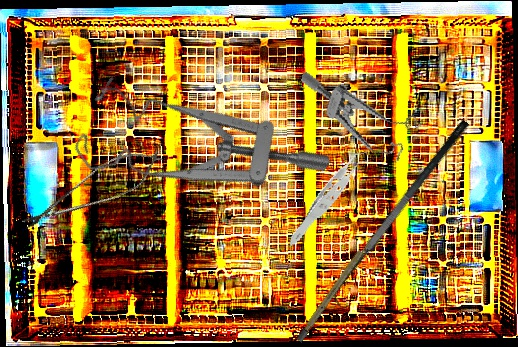Micro Scissor: (16, 138, 169, 243)
Scalpel Handle: (295, 236, 374, 343)
Spatula Surgical: (320, 117, 485, 311)
Speculum: (61, 32, 334, 277), (286, 71, 427, 165)
Tissue Forceps: (268, 146, 396, 248)
